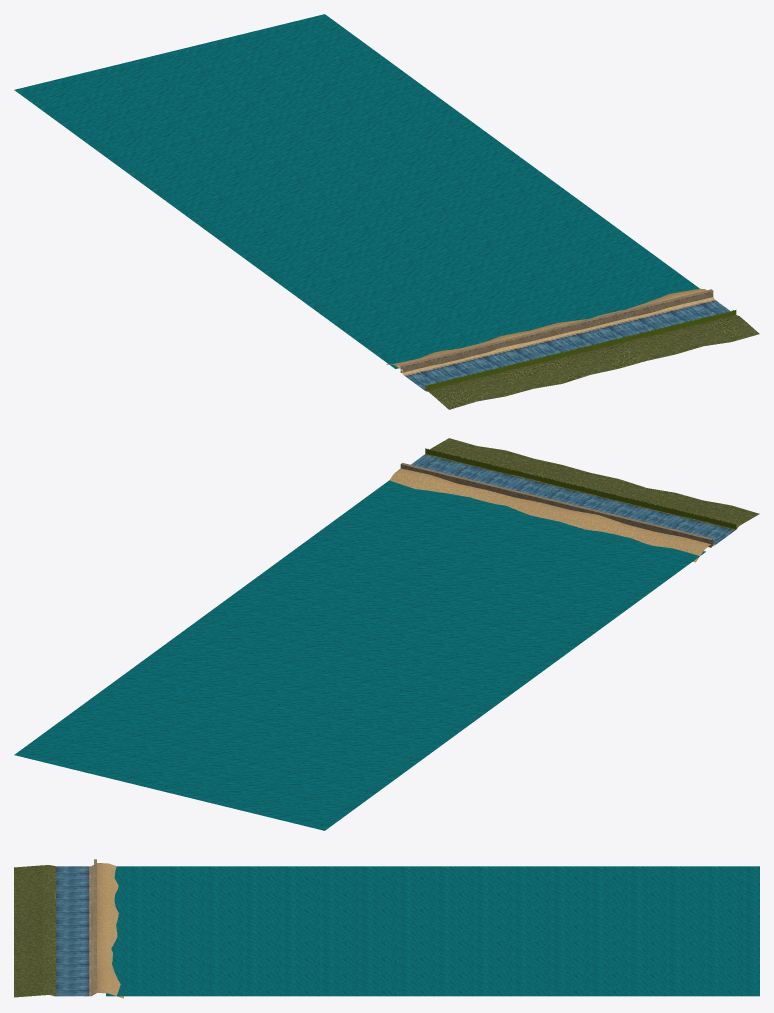
File: terr_seaward.FBX
The picture shows the model from 3 angles, top to bottom: view 1: azimuth 30°, elevation 25°; view 2: azimuth 150°, elevation 25°; view 3: azimuth 270°, elevation 25°; orthographic projection. The views are drawn at different scales.
Parts seen in each view (by area): view 1: water, grass, road, Box01, grass01; view 2: water, grass, grass01, road, Box01; view 3: water, grass, road, grass01, Box01.
Part boxes in pixels (x1,y1,x2,y2): water: (14,14,699,368); grass: (425,315,759,409); road: (404,299,730,391); Box01: (400,289,713,373); grass01: (386,288,714,375); water: (14,480,705,830); grass: (425,438,759,530); grass01: (389,468,713,562); road: (411,454,736,545); Box01: (400,463,713,547); water: (106,866,759,996); grass: (14,865,55,997); road: (53,866,91,996); grass01: (91,863,123,998); Box01: (94,859,96,989).
Size of the model in its own units: 200 by 7.82 by 485.
Materials: 6 (6 with a texture image).
